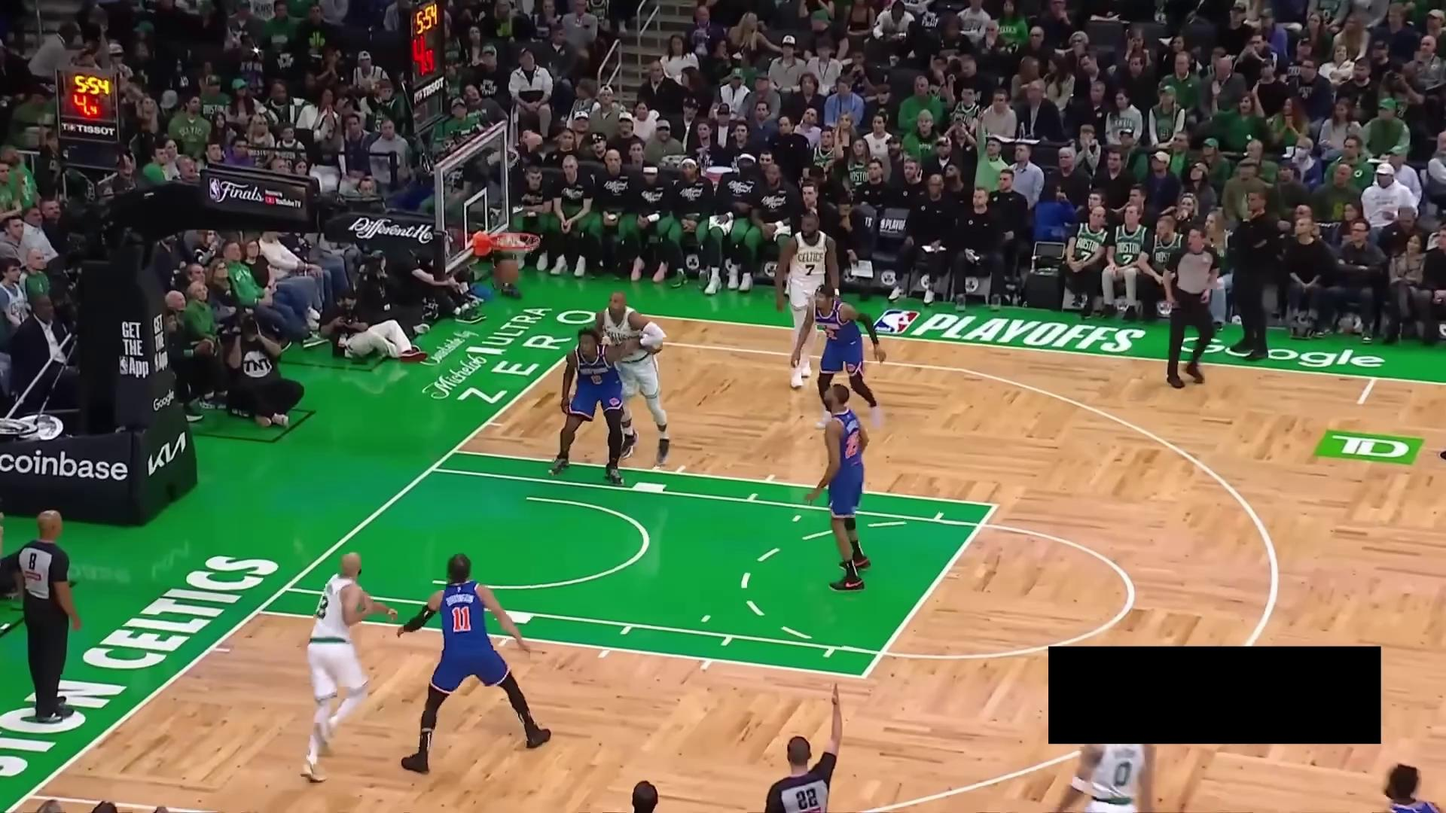ball: (493, 257, 522, 284)
number: (448, 606, 474, 635), (1109, 760, 1133, 790), (843, 428, 862, 459), (314, 594, 329, 620), (804, 262, 816, 277), (827, 327, 837, 341), (592, 373, 603, 385)
player: (398, 553, 553, 775), (299, 552, 401, 786), (543, 326, 665, 483), (786, 279, 890, 427), (807, 381, 877, 594), (596, 292, 674, 468), (774, 211, 843, 392), (1054, 743, 1166, 813), (1382, 762, 1443, 813)
referee: (11, 509, 83, 722), (761, 682, 849, 813), (1161, 221, 1227, 390)
rim: (491, 233, 543, 252)
